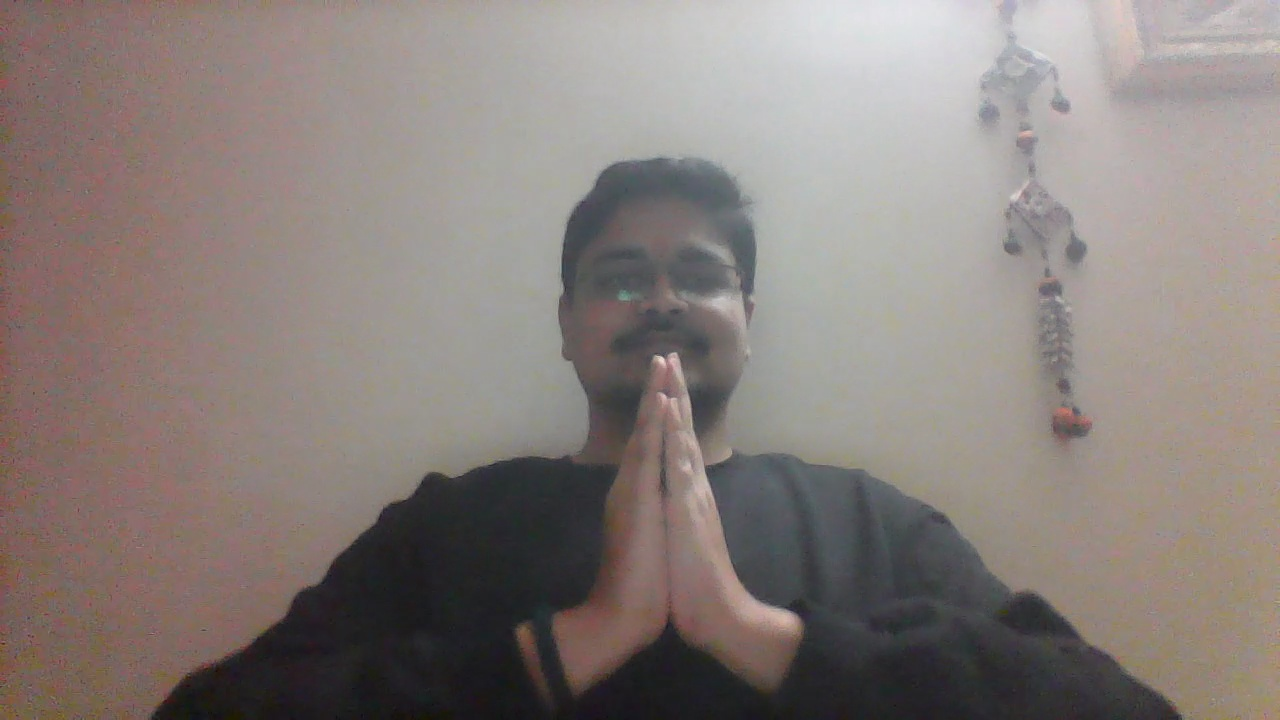Namaste: (575, 344, 763, 664)
